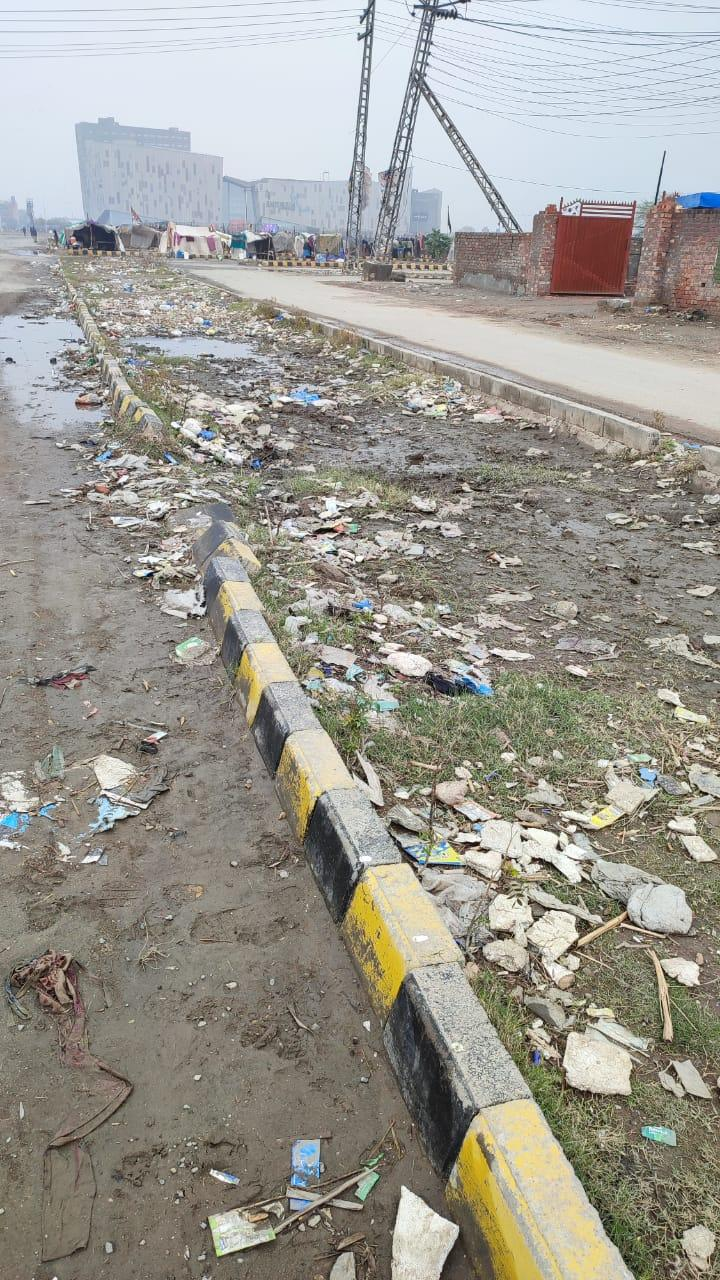garbage: (108, 328, 563, 749)
